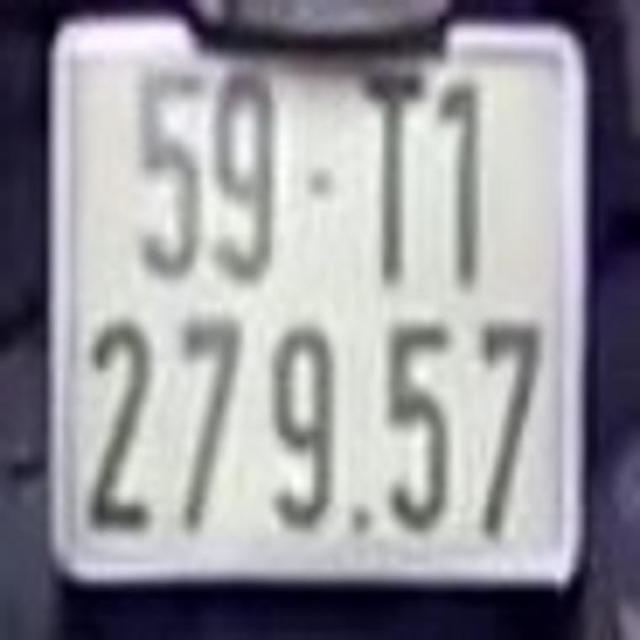1: (439, 80, 481, 283)
2: (83, 318, 154, 532)
5: (136, 70, 205, 278), (386, 320, 452, 530)
7: (176, 316, 243, 530), (478, 318, 542, 539)
9: (270, 322, 335, 529), (212, 70, 276, 280)
T: (364, 74, 424, 282)
